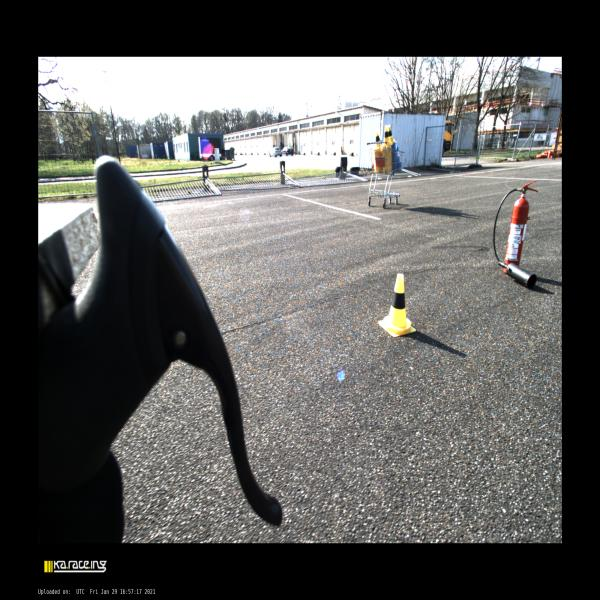blue_cone: (394, 146, 401, 164)
large_orange_cone: (547, 149, 551, 158)
yellow_cone: (378, 274, 416, 337), (383, 125, 392, 145), (373, 131, 382, 149), (388, 125, 395, 144)
